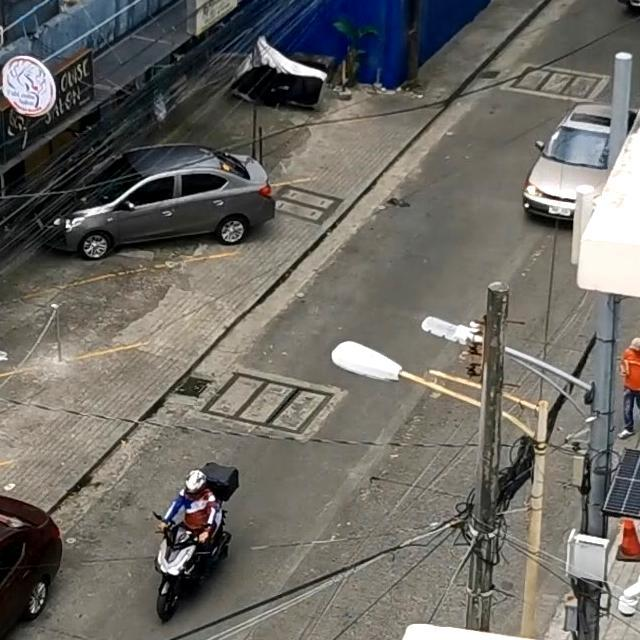Motorcycle: (134, 450, 256, 607)
